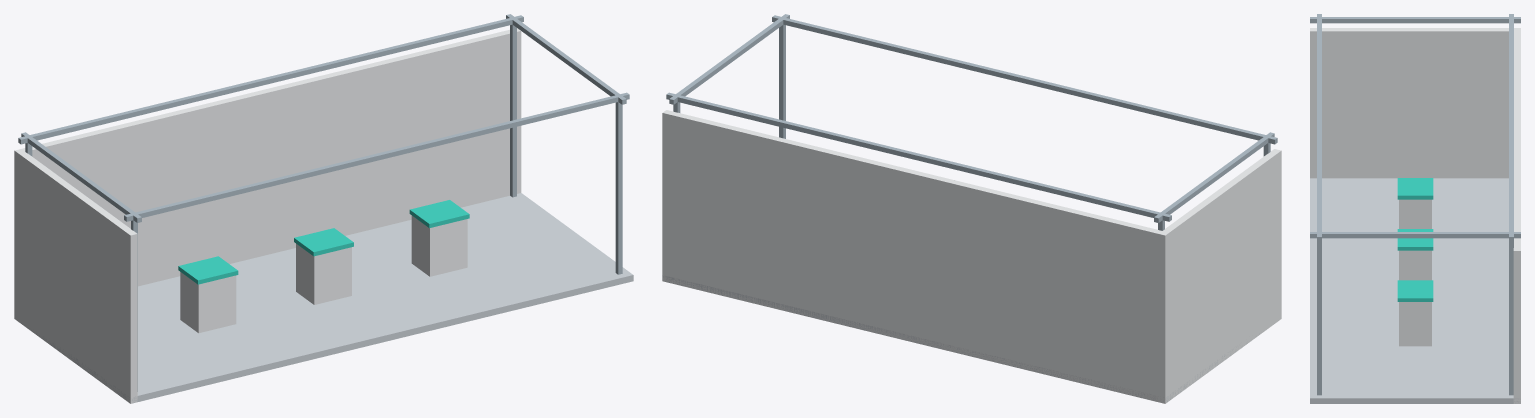
The picture shows the model from 3 angles, left to right: view 1: azimuth 30°, elevation 25°; view 2: azimuth 150°, elevation 25°; view 3: azimuth 270°, elevation 25°; orthographic projection. The views are drawn at different scales.
Parts seen in each view (by area): view 1: Exhibition Booth Concept; view 2: Exhibition Booth Concept; view 3: Exhibition Booth Concept.
Part boxes in pixels (left/top/right/bottom): Exhibition Booth Concept: left=14, top=14, right=633, bottom=403; Exhibition Booth Concept: left=662, top=14, right=1281, bottom=403; Exhibition Booth Concept: left=1310, top=14, right=1520, bottom=403.
Bounding box in the file's own units: 10 × 3.49 × 4.
